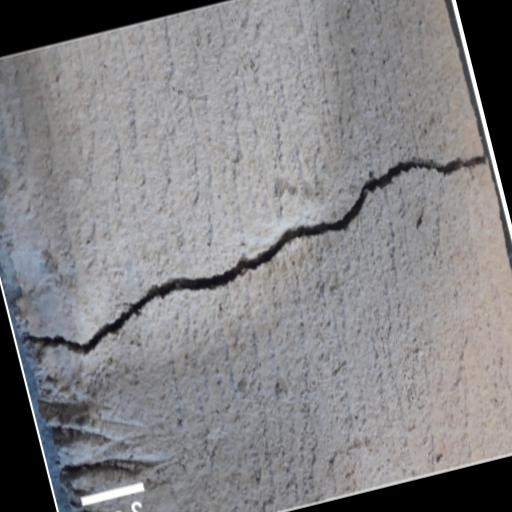cracks: (4, 137, 510, 399)
